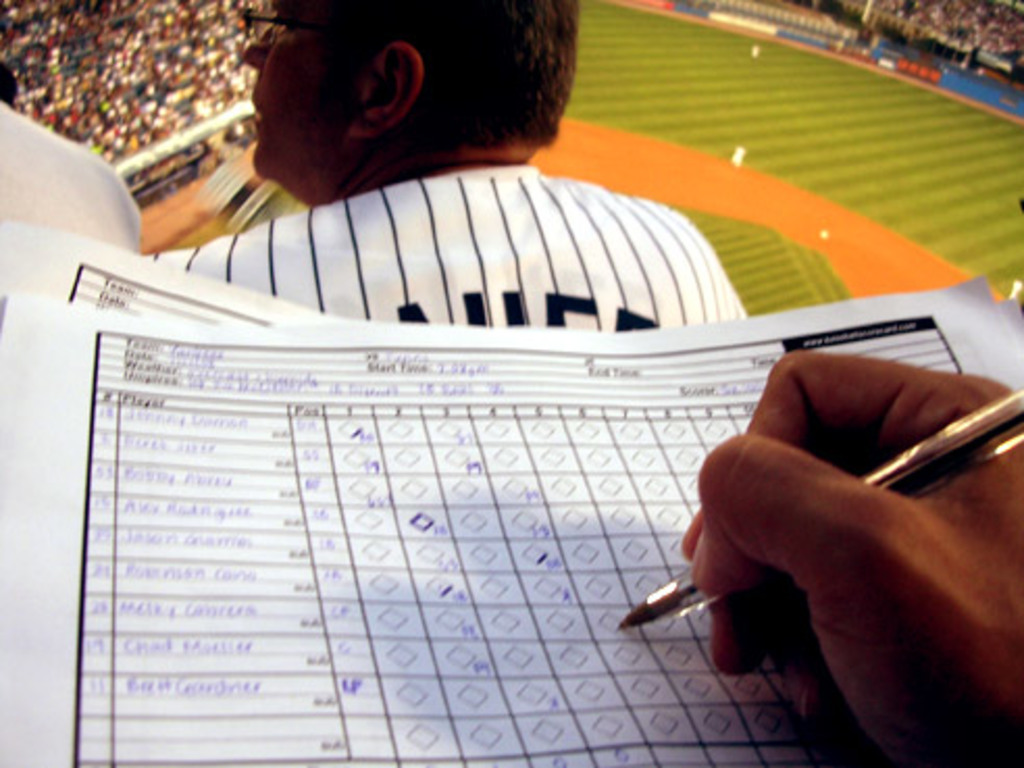Pen: (606, 377, 1022, 633)
